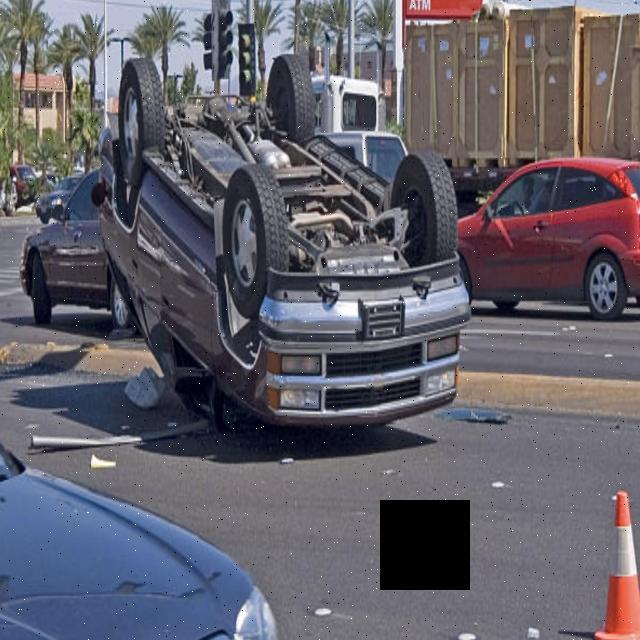severe: (89, 42, 473, 439)
